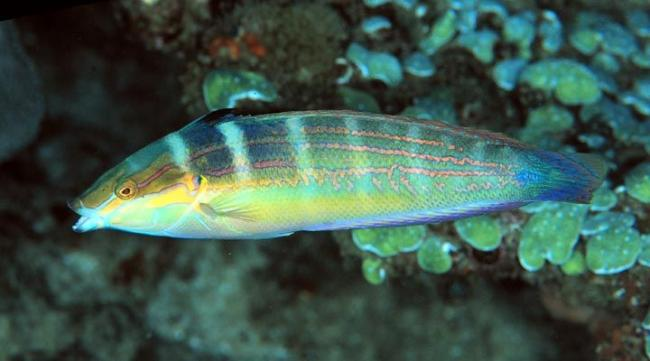fish: (69, 107, 606, 239)
